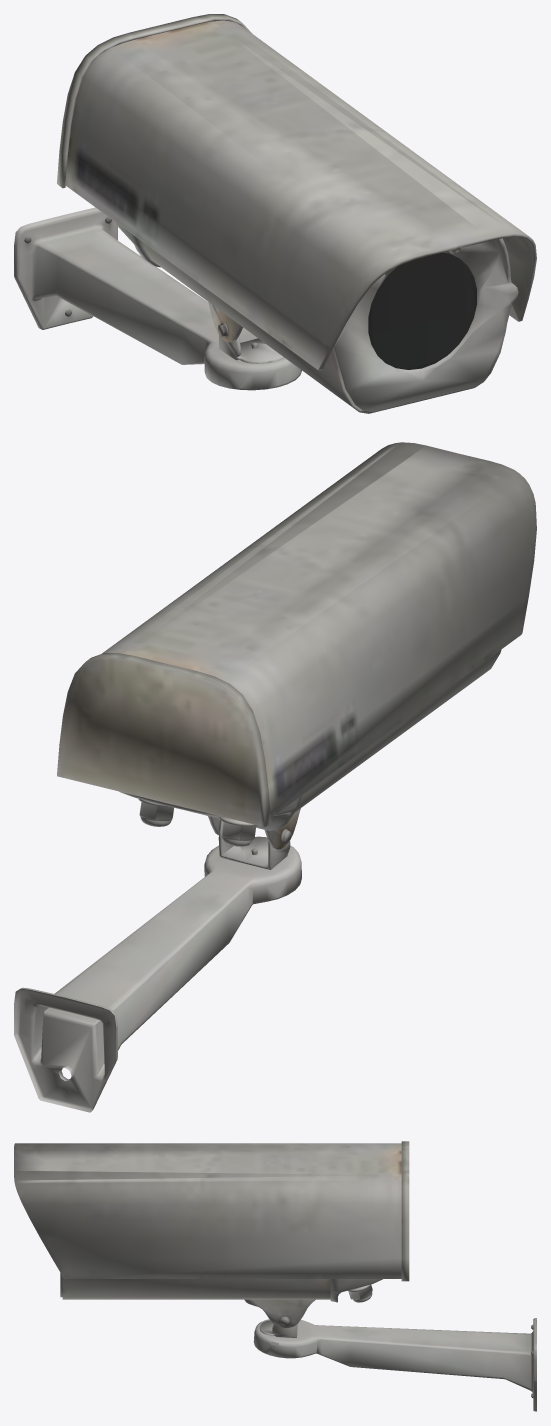
Rendered from security_camera_01_lod1.glb.
The picture shows the model from 3 angles, top to bottom: view 1: azimuth 30°, elevation 25°; view 2: azimuth 150°, elevation 25°; view 3: azimuth 270°, elevation 25°; orthographic projection. The views are drawn at different scales.
Visible parts, largest first — view 1: security_camera_01; view 2: security_camera_01; view 3: security_camera_01.
Part boxes in pixels (bbox=[...]): security_camera_01: bbox=[14, 14, 536, 413]; security_camera_01: bbox=[14, 442, 536, 1112]; security_camera_01: bbox=[14, 1141, 536, 1411].
Size of the model in its own units: 0.1695 by 0.2861 by 0.5537.
2 materials, 2 textured.
